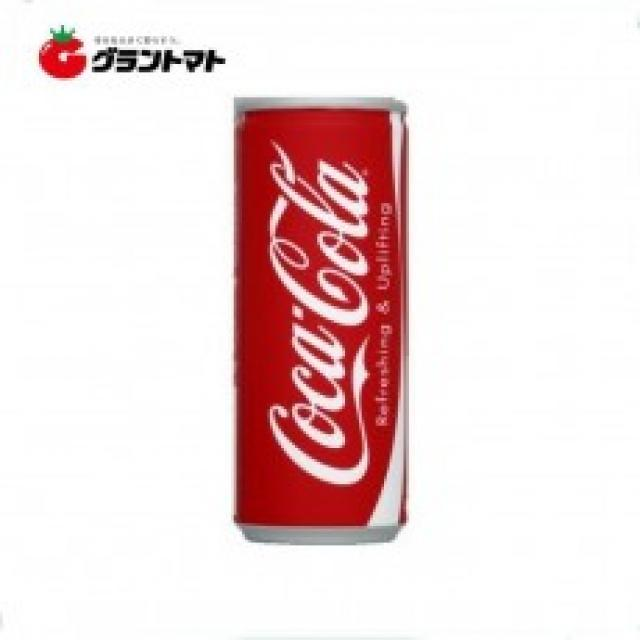coca-cola: (227, 91, 423, 554)
